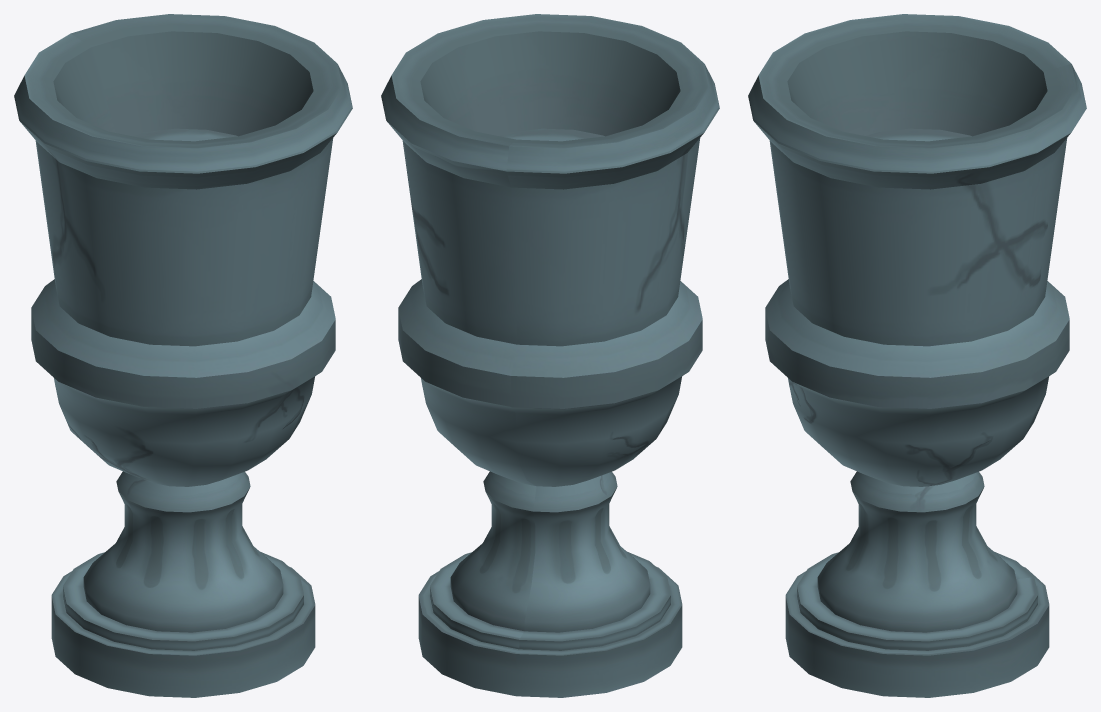
The model's file is Stand.FBX.
The picture shows the model from 3 angles, left to right: view 1: azimuth 30°, elevation 25°; view 2: azimuth 150°, elevation 25°; view 3: azimuth 270°, elevation 25°; orthographic projection.
Parts seen in each view (by area): view 1: Cylinder018; view 2: Cylinder018; view 3: Cylinder018.
Part boxes in pixels (bbox=[...]): Cylinder018: bbox=[14, 14, 352, 697]; Cylinder018: bbox=[381, 14, 719, 697]; Cylinder018: bbox=[748, 14, 1086, 697].
Bounding box in the file's own units: 104 × 190 × 104.
1 material, 1 textured.
